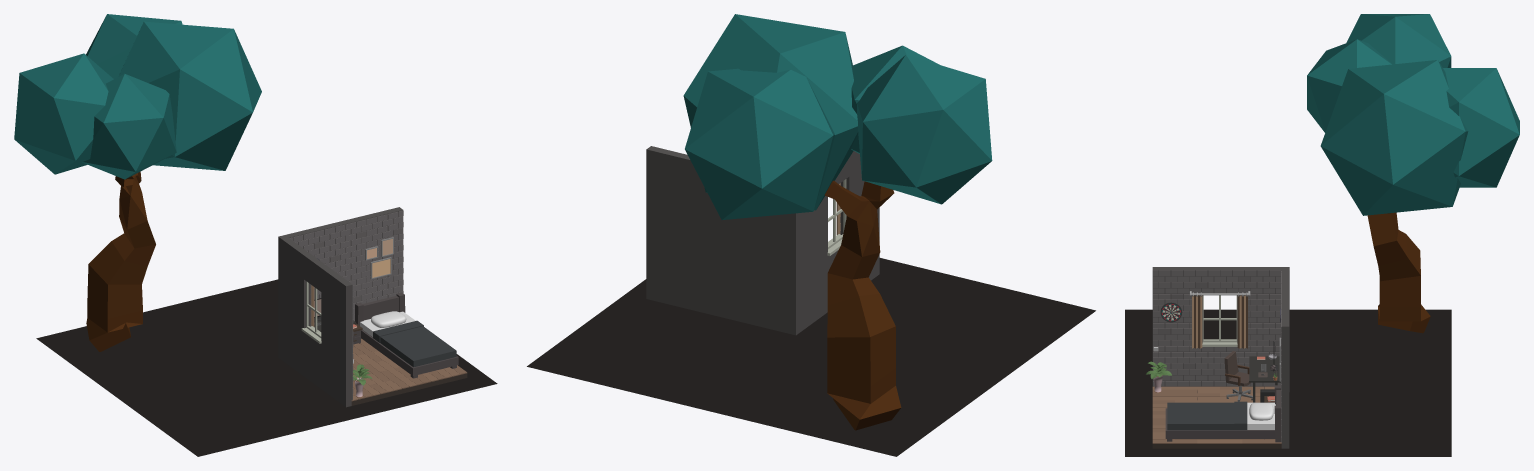
The model's file is NewRoomTree.gltf.
3 renders of one model, left to right at view 1: azimuth 30°, elevation 25°; view 2: azimuth 150°, elevation 25°; view 3: azimuth 270°, elevation 25°, orthographic. The views are drawn at different scales.
Visible parts, largest first — view 1: BG, leaves1, Wall_02, leaves3, tree, leaves4, Wall_01, Bed, Floor, leaves2; view 2: BG, leaves2, Wall_01, leaves3, tree, leaves1, Wall_02, leaves4; view 3: BG, leaves1, Wall_02, leaves2, tree, Bed, leaves3, Floor, leaves4, Wall_01, Curtains, OfficeChair (+2 smaller).
Part boxes in pixels (x1,y1,x2,y2): BG: (36, 279, 497, 456); leaves1: (118, 21, 261, 170); Wall_02: (278, 235, 353, 407); leaves3: (14, 53, 113, 174); tree: (86, 171, 155, 351); leaves4: (82, 74, 176, 179); Wall_01: (284, 207, 403, 320); Bed: (355, 292, 458, 378); Floor: (351, 338, 467, 405); leaves2: (86, 14, 182, 78); BG: (527, 258, 1095, 456); leaves2: (685, 68, 834, 219); Wall_01: (646, 146, 787, 333); leaves3: (857, 55, 992, 204); tree: (824, 180, 901, 430); leaves1: (683, 14, 858, 210); Wall_02: (787, 151, 879, 335); leaves4: (851, 45, 939, 153); BG: (1125, 309, 1451, 456); leaves1: (1320, 60, 1468, 215); Wall_02: (1152, 267, 1289, 391); leaves2: (1443, 68, 1519, 187); tree: (1367, 212, 1430, 333); Bed: (1165, 385, 1280, 442); leaves3: (1346, 14, 1451, 67); Floor: (1152, 386, 1281, 448); leaves4: (1307, 39, 1392, 132); Wall_01: (1281, 270, 1289, 448); Curtains: (1189, 291, 1250, 348); OfficeChair: (1224, 351, 1252, 401).
Size of the model in its own units: 8.29 by 6.82 by 8.04.
